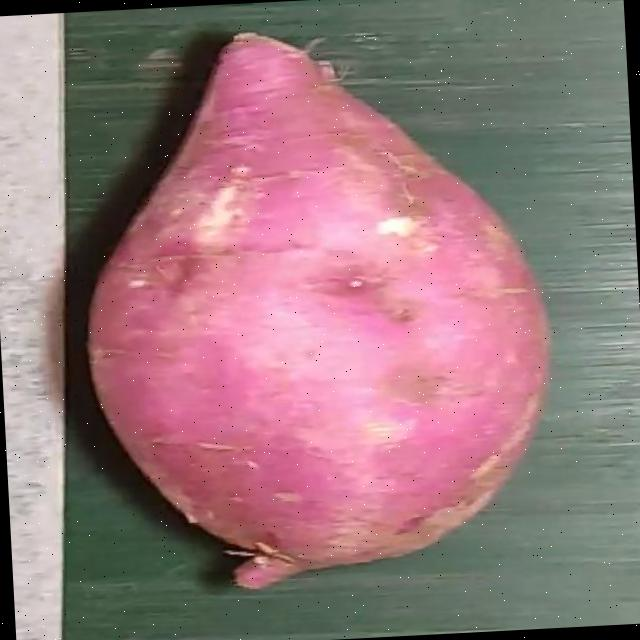Sweet Potato: (88, 34, 551, 591)
